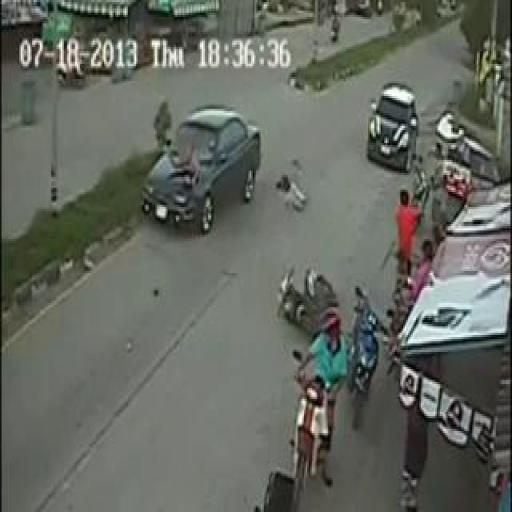Car: (142, 106, 261, 235), (370, 86, 419, 170)
Major Accident: (136, 95, 336, 336)
Motor: (292, 359, 330, 486), (271, 272, 337, 336), (346, 298, 372, 426)
